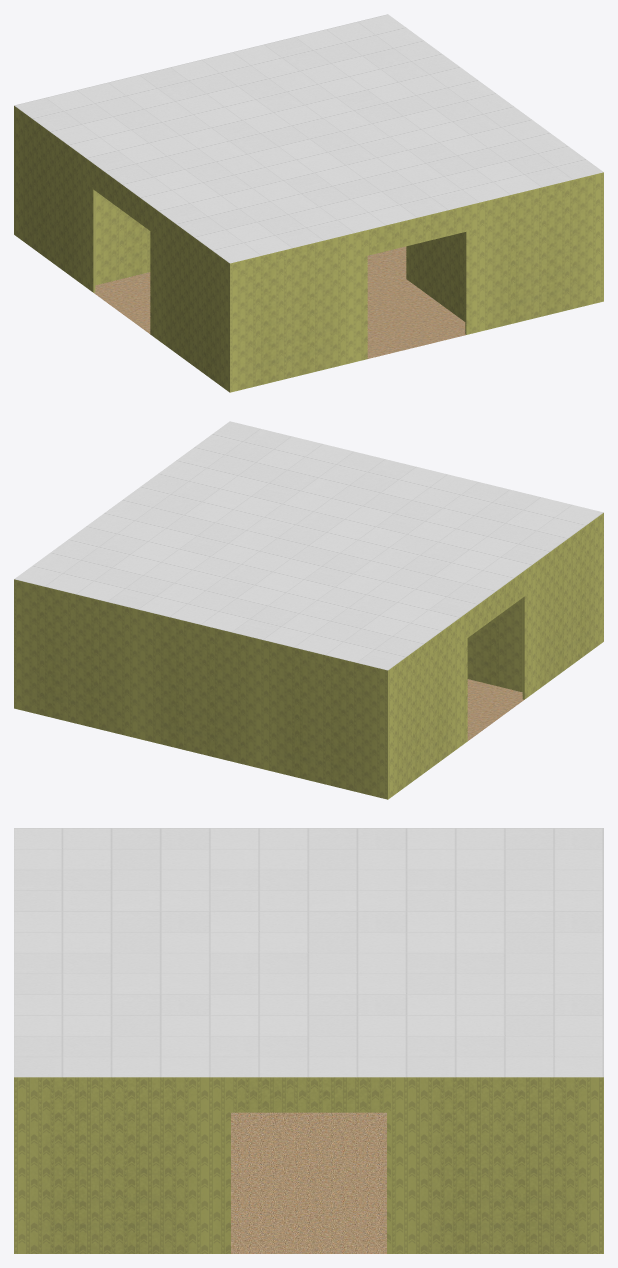
File: 3exitnarrow.glb
3 renders of one model, top to bottom at view 1: azimuth 30°, elevation 25°; view 2: azimuth 150°, elevation 25°; view 3: azimuth 270°, elevation 25°, orthographic. The views are drawn at different scales.
Parts seen in each view (by area): view 1: 3exitnarrow; view 2: 3exitnarrow; view 3: 3exitnarrow.
Part boxes in pixels (x1,y1,x2,y2): 3exitnarrow: (14,14,603,392); 3exitnarrow: (14,421,603,799); 3exitnarrow: (14,828,603,1253).
Size of what is drawn, in the model's own units: 15.15 by 5 by 15.15.
Materials: 3 (3 with a texture image).
